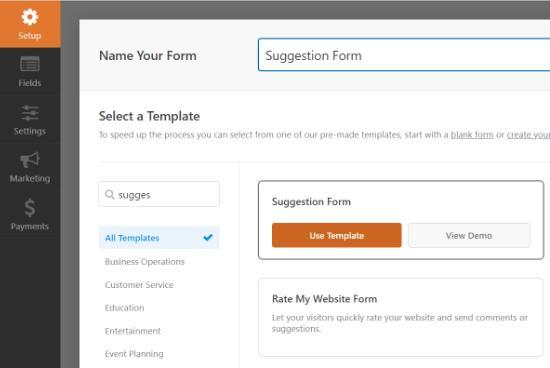button: (273, 223, 404, 248), (410, 223, 531, 249)
icon: (19, 150, 42, 172), (20, 55, 43, 76), (20, 7, 41, 28), (21, 105, 42, 125), (25, 197, 39, 222), (201, 232, 215, 245)
input: (260, 39, 550, 70), (100, 181, 221, 207)
label: (271, 196, 353, 208)
